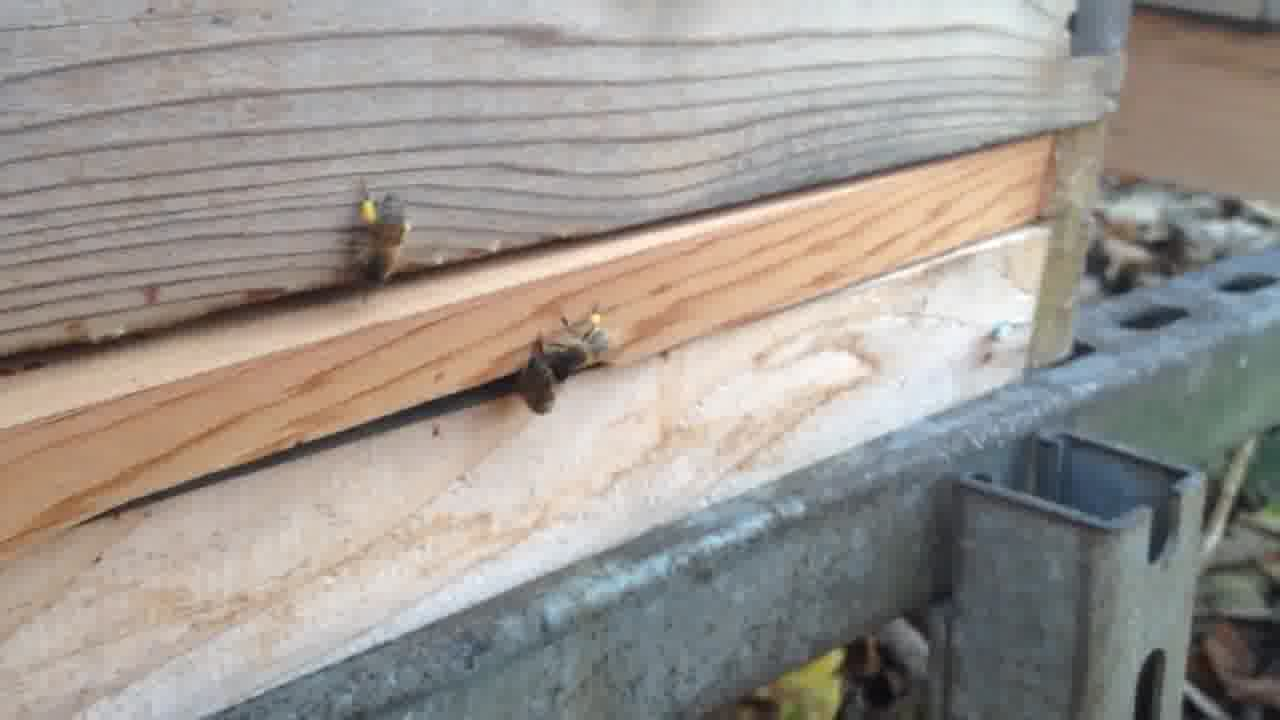pollen: (347, 182, 412, 288), (540, 314, 625, 379)
